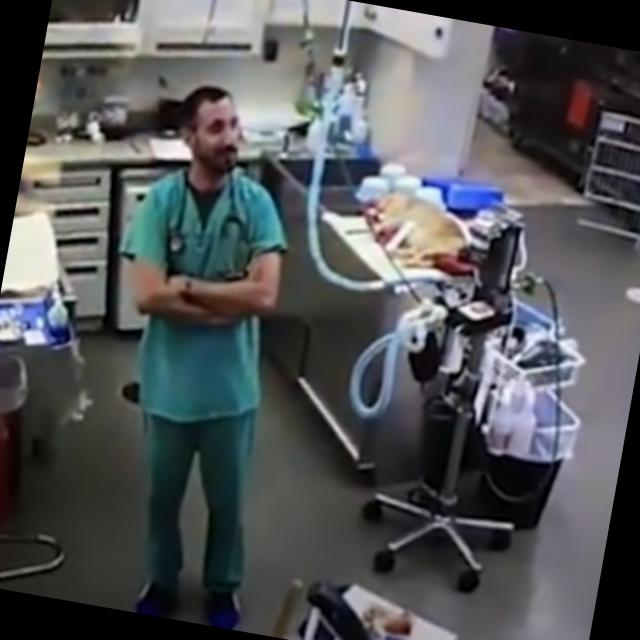person: (57, 74, 332, 630)
